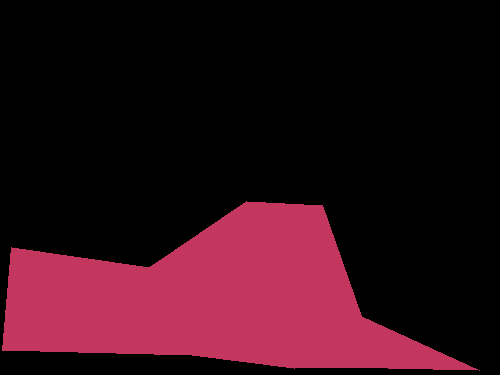Airplane: (2, 201, 479, 370)
